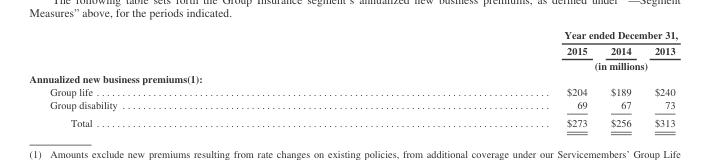table: (28, 28, 677, 128)
table column: (28, 28, 340, 128), (340, 28, 598, 128), (598, 28, 642, 128), (642, 28, 677, 128)
table column header: (28, 28, 677, 72)
table projected row header: (28, 72, 677, 85)
table row: (28, 42, 677, 58), (28, 98, 677, 113), (28, 113, 677, 128), (28, 28, 677, 42), (28, 58, 677, 72), (28, 72, 677, 85), (28, 85, 677, 98)
table spanning cell: (340, 28, 677, 42), (340, 58, 677, 72)
